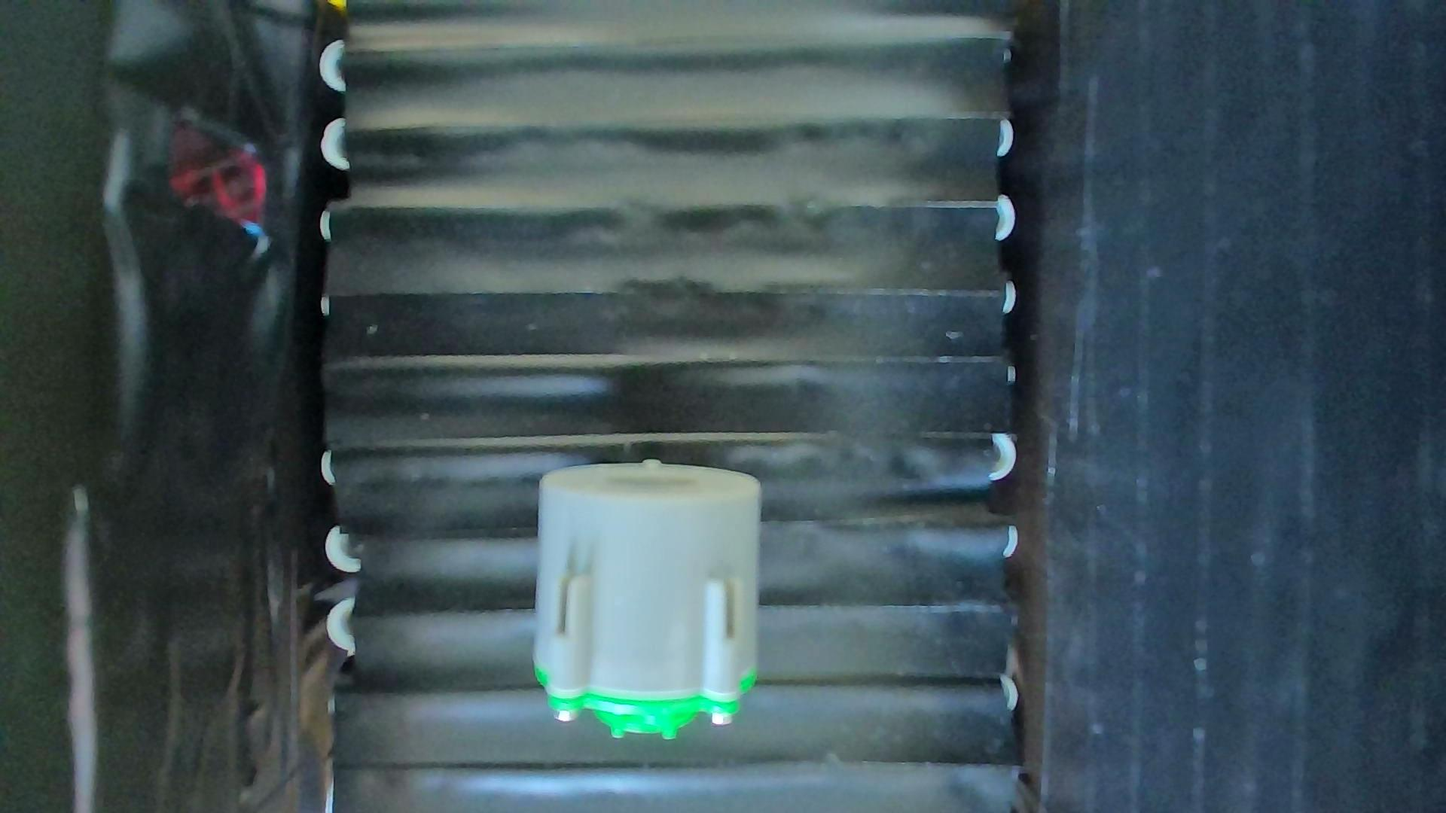cartridge: (533, 458, 762, 740)
